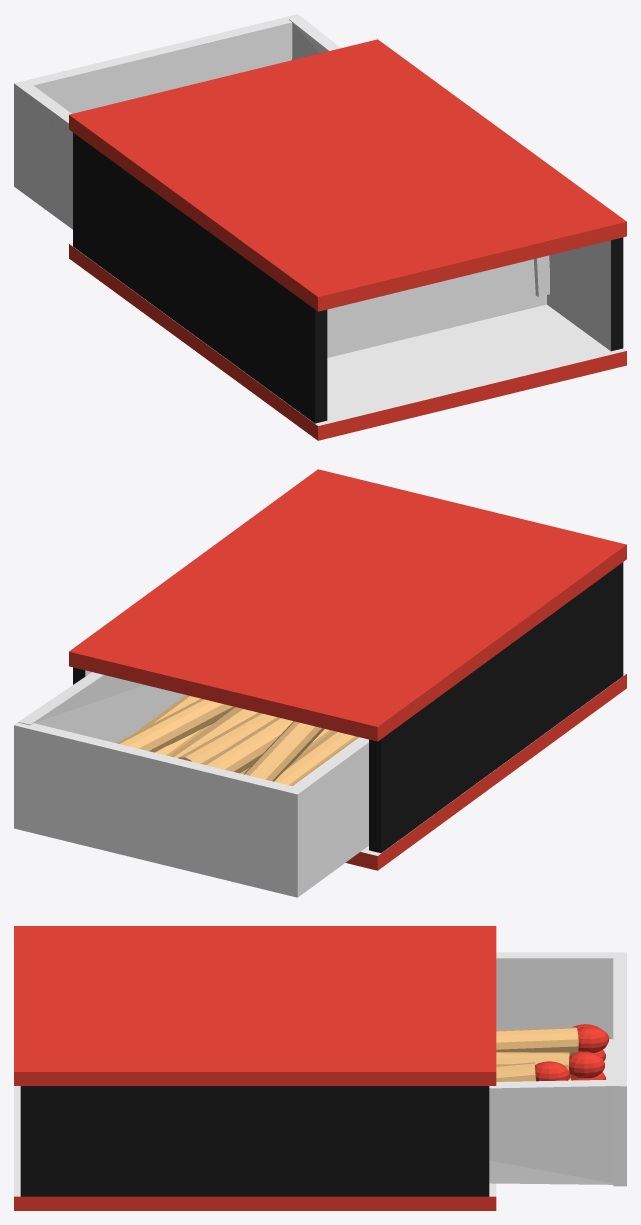
File: matchbox open.glb
3 renders of one model, top to bottom at view 1: azimuth 30°, elevation 25°; view 2: azimuth 150°, elevation 25°; view 3: azimuth 270°, elevation 25°, orthographic. The views are drawn at different scales.
Visible parts, largest first — view 1: group1259632355, group535508067, group1082834533, group7603164, group1666666727, group2078011135, group1041868421, group830282067; view 2: group1259632355, group7603164, group535508067, group1041868421, group830282067, group1082834533, group856328778, group180280331, group1461363982, group1807929997, group904811230, group408723702; view 3: group1259632355, group2078011135, group830282067, group1041868421, group1082834533, group7603164, group180280331, group1461363982, group1135075353, group904811230, group738463832, group492091278.
Part boxes in pixels (x1=…): group1259632355: x1=69, y1=39, x2=626, y2=311; group535508067: x1=73, y1=132, x2=327, y2=423; group1082834533: x1=69, y1=243, x2=626, y2=440; group7603164: x1=14, y1=14, x2=300, y2=191; group1666666727: x1=327, y1=259, x2=546, y2=357; group2078011135: x1=547, y1=237, x2=623, y2=351; group1041868421: x1=14, y1=80, x2=72, y2=229; group830282067: x1=289, y1=16, x2=549, y2=296; group1259632355: x1=69, y1=469, x2=626, y2=741; group7603164: x1=14, y1=722, x2=304, y2=897; group535508067: x1=369, y1=562, x2=623, y2=852; group1041868421: x1=285, y1=737, x2=368, y2=892; group830282067: x1=18, y1=672, x2=185, y2=742; group1082834533: x1=345, y1=673, x2=626, y2=870; group856328778: x1=116, y1=698, x2=235, y2=752; group180280331: x1=244, y1=721, x2=324, y2=781; group1461363982: x1=202, y1=717, x2=292, y2=773; group1807929997: x1=274, y1=731, x2=356, y2=785; group904811230: x1=178, y1=712, x2=276, y2=763; group408723702: x1=170, y1=708, x2=257, y2=758; group1259632355: x1=14, y1=926, x2=496, y2=1085; group2078011135: x1=20, y1=1086, x2=489, y2=1196; group830282067: x1=489, y1=1079, x2=619, y2=1184; group1041868421: x1=496, y1=952, x2=626, y2=1039; group1082834533: x1=14, y1=1086, x2=496, y2=1210; group7603164: x1=613, y1=958, x2=626, y2=1186; group180280331: x1=496, y1=1027, x2=578, y2=1054; group1461363982: x1=496, y1=1052, x2=570, y2=1079; group1135075353: x1=569, y1=1051, x2=604, y2=1078; group904811230: x1=496, y1=1062, x2=535, y2=1081; group738463832: x1=577, y1=1026, x2=609, y2=1052; group492091278: x1=535, y1=1061, x2=569, y2=1081.
Bounding box in the file's own units: 0.2505 × 0.1114 × 0.4448.
